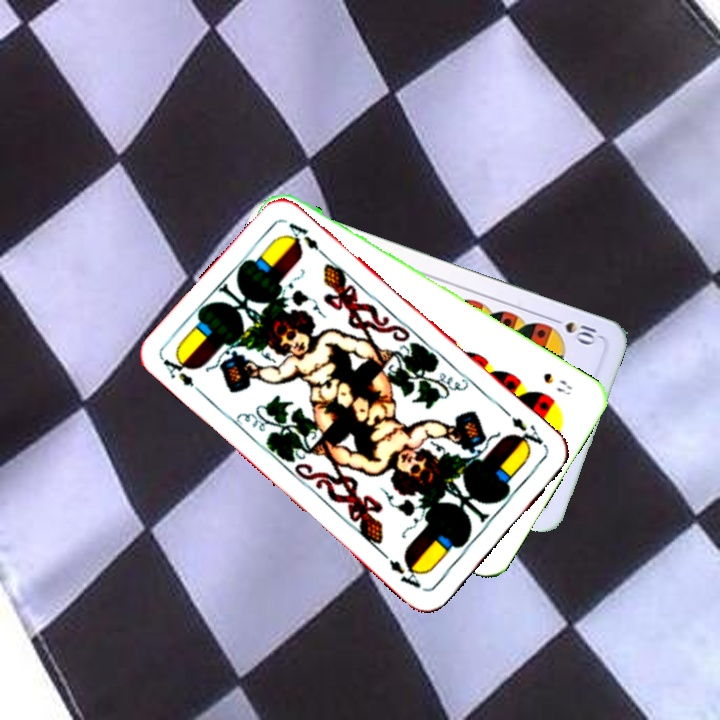EA: (159, 350, 207, 399), (507, 412, 550, 453)
S10: (546, 313, 603, 347)
S8: (539, 368, 575, 398)
